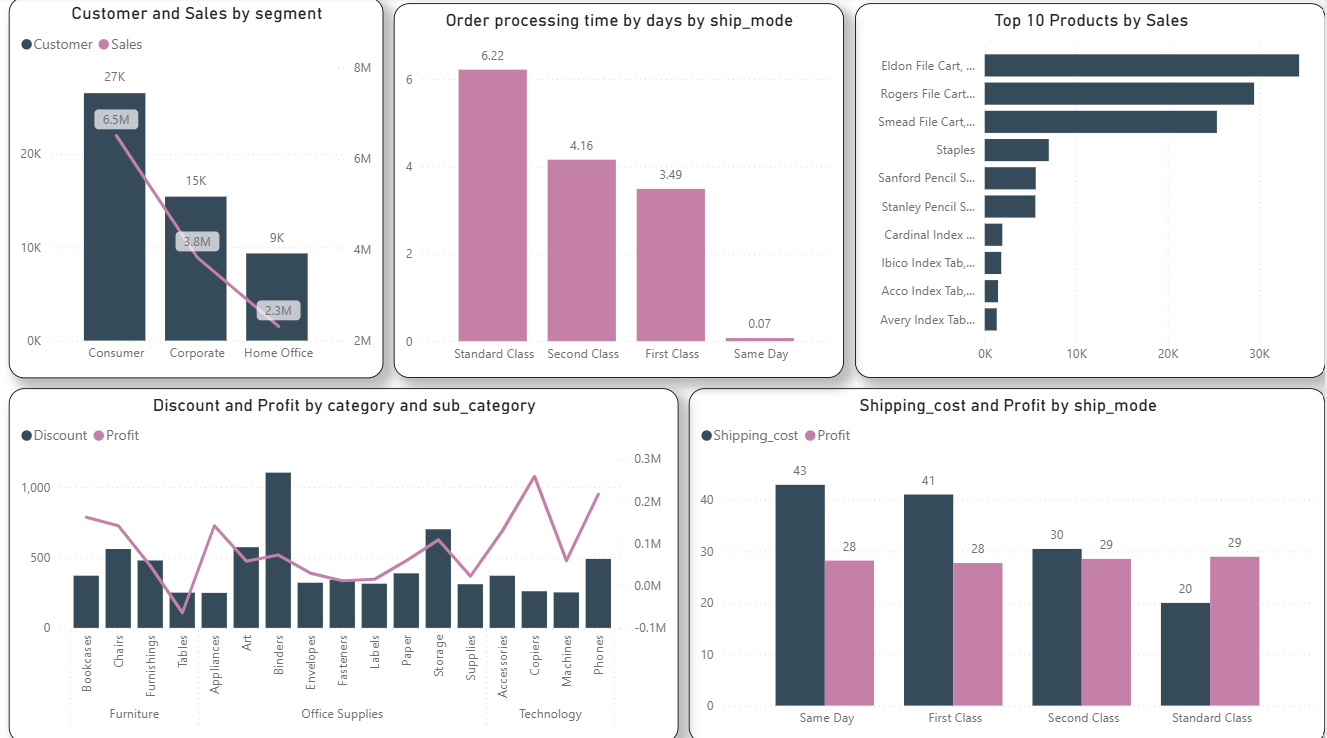

This screenshot's page, from the dashboard's own definition file:
{"tool":"powerbi","page":{"name":"Sales Analysis","canvas":[1280,720],"ordinal":1},"visuals":[{"type":"clusteredBarChart","title":"Top 10 Products by Sales","fields":{"Category":["SuperStoreOrders.product_name"],"Y":["Sum(SuperStoreOrders.sales)"]},"box":[825.2,6,454.8,361.9],"z":0},{"type":"lineStackedColumnComboChart","fields":{"Category":["SuperStoreOrders.segment"],"Y":["CountNonNull(SuperStoreOrders.customer_name)"],"Y2":["Sum(SuperStoreOrders.sales)"]},"box":[8.4,0,361.9,368],"z":1000},{"type":"clusteredColumnChart","fields":{"Category":["SuperStoreOrders.ship_mode"],"Y":["Avg(SuperStoreOrders.shipping_cost)","Avg(SuperStoreOrders.profit)"]},"box":[664.7,377.6,615.3,342.6],"z":2000},{"type":"clusteredColumnChart","fields":{"Category":["SuperStoreOrders.ship_mode"],"Y":["Avg(SuperStoreOrders.Order processing time by days)"]},"box":[380,6,434.3,361.9],"z":3000},{"type":"lineStackedColumnComboChart","fields":{"Category":["SuperStoreOrders.category","SuperStoreOrders.sub_category"],"Y":["Sum(SuperStoreOrders.discount)"],"Y2":["Sum(SuperStoreOrders.profit)"]},"box":[8.4,377.6,646.7,342.6],"z":4000}]}

Visuals, with their boxes in screenshot pixels (x1, y1, x2, y2), scaled from the page's 1280x720 canvas onto the 1327x738 screenshot:
"Top 10 Products by Sales" clusteredBarChart: 856 6 1326 377
lineStackedColumnComboChart - SuperStoreOrders.segment x CountNonNull(SuperStoreOrders.customer_name): 9 0 384 377
clusteredColumnChart - SuperStoreOrders.ship_mode x Avg(SuperStoreOrders.shipping_cost): 689 387 1326 737
clusteredColumnChart - SuperStoreOrders.ship_mode x Avg(SuperStoreOrders.Order processing time by days): 394 6 844 377
lineStackedColumnComboChart - SuperStoreOrders.category x SuperStoreOrders.sub_category: 9 387 679 737
